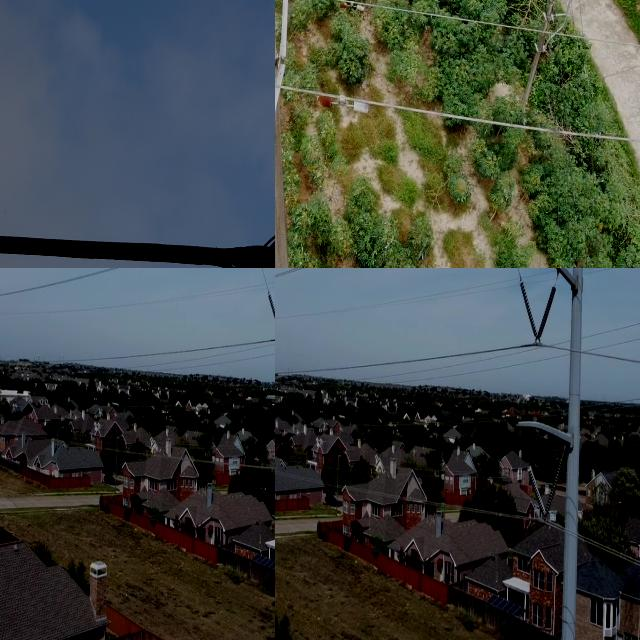正常电缆: (275, 446, 534, 535), (275, 332, 523, 384)
正常绝缘子: (536, 283, 562, 346), (514, 272, 534, 339), (545, 457, 565, 516), (527, 465, 545, 513), (261, 279, 275, 325)
